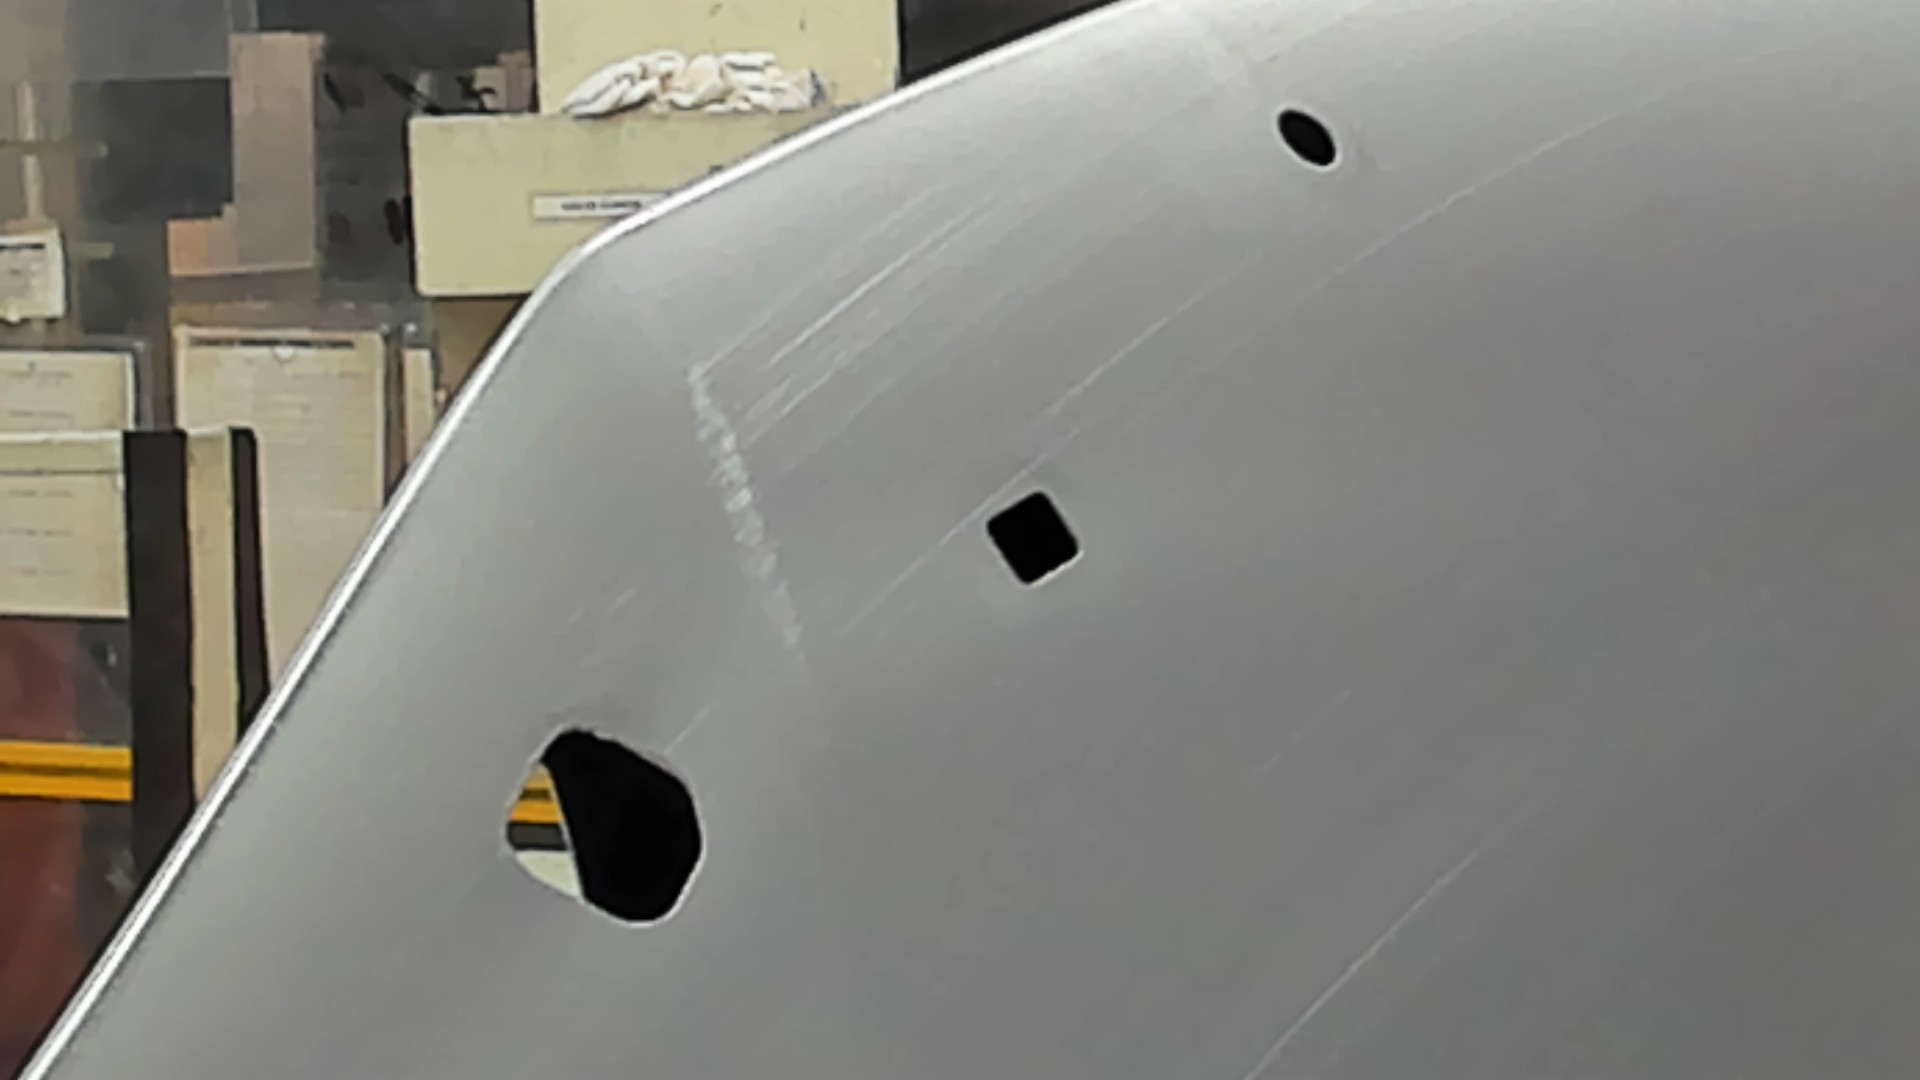chico: (1274, 103, 1342, 174)
grande: (495, 717, 707, 928)
mediano: (978, 485, 1091, 593)
